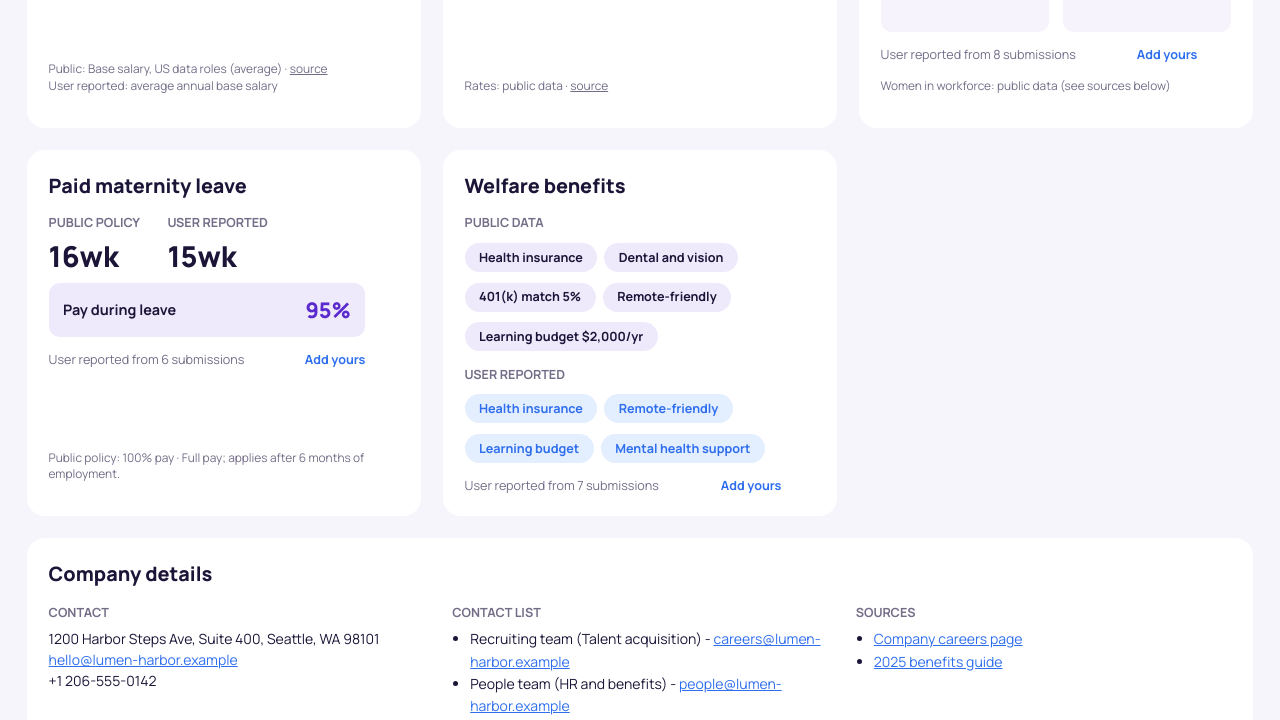
Scenario: CompanyProfilePage › adds a report and updates the box
The width and height of the screenshot is (1280, 720).
(page scrolled)
Click the button with aria-label "Add yours to paid maternity leave".
click(335, 360)  # box 305,351 -> 365,369
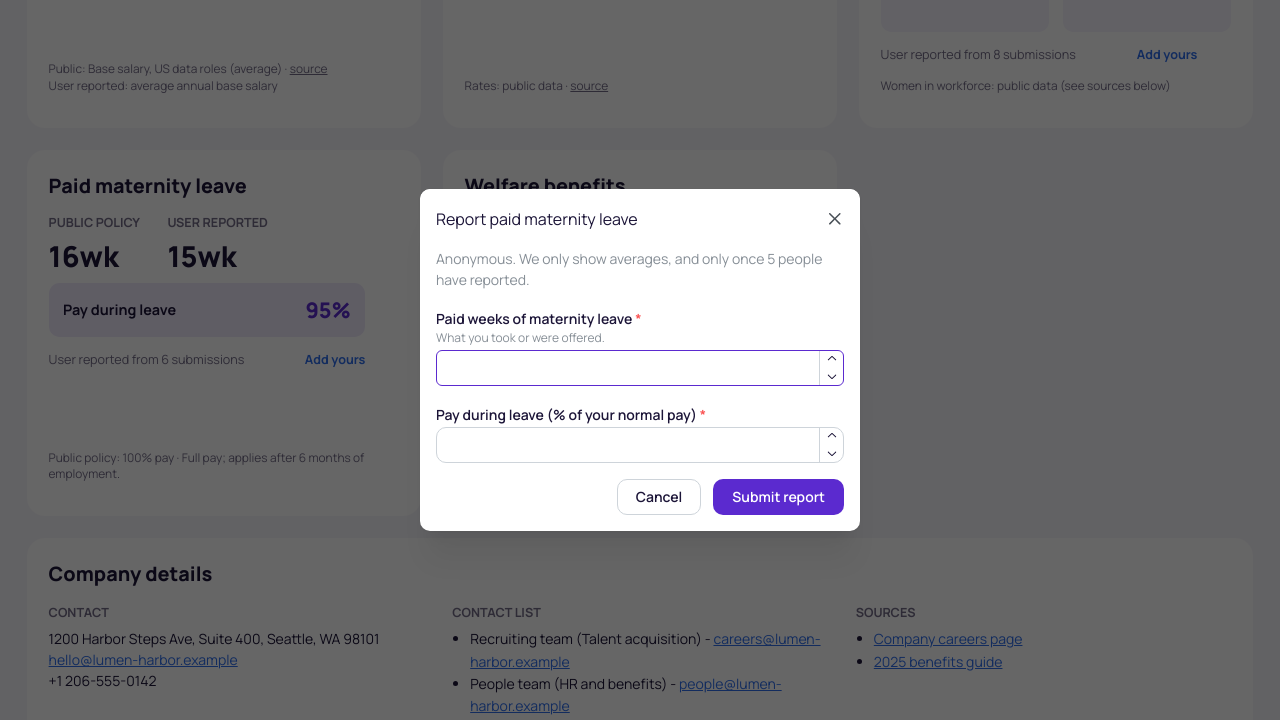
Type "29" into the field labelled "Paid weeks of maternity leave *".
click(640, 368); type("29")  # box 436,350 -> 844,386
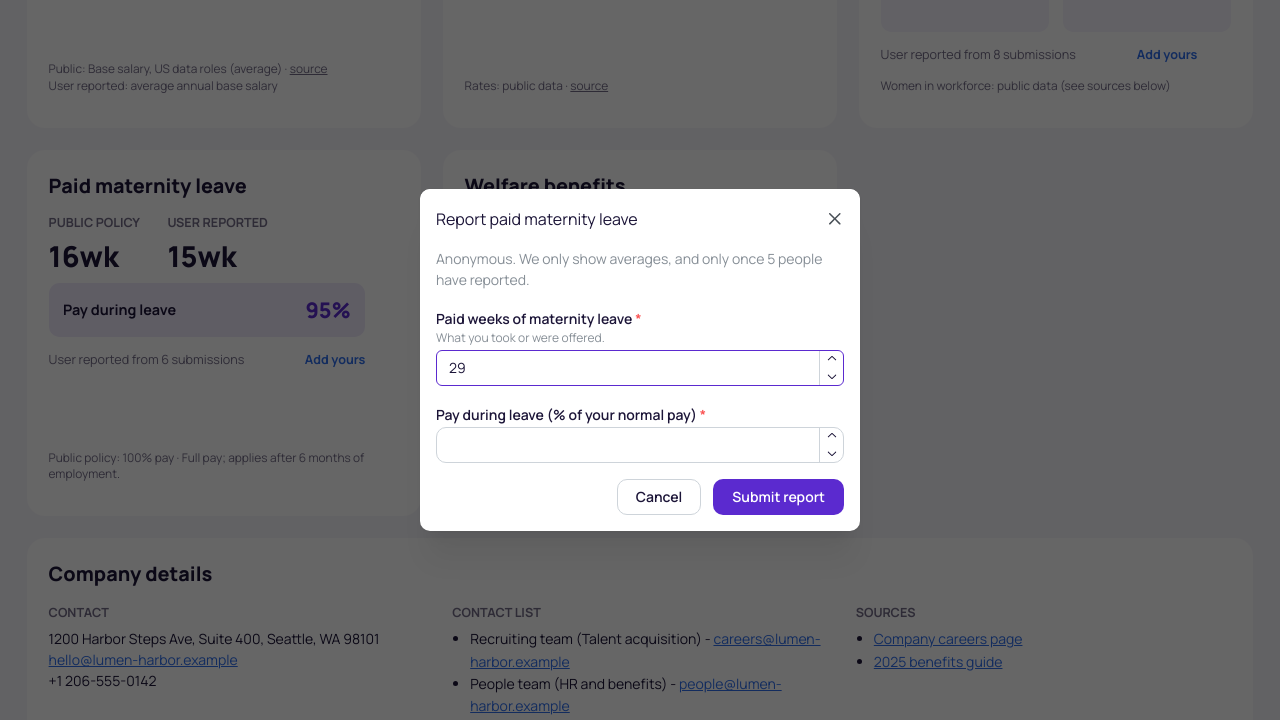
Type "60" into the field labelled "Pay during leave (% of your normal pay) *".
click(640, 445); type("60")  # box 436,427 -> 844,463
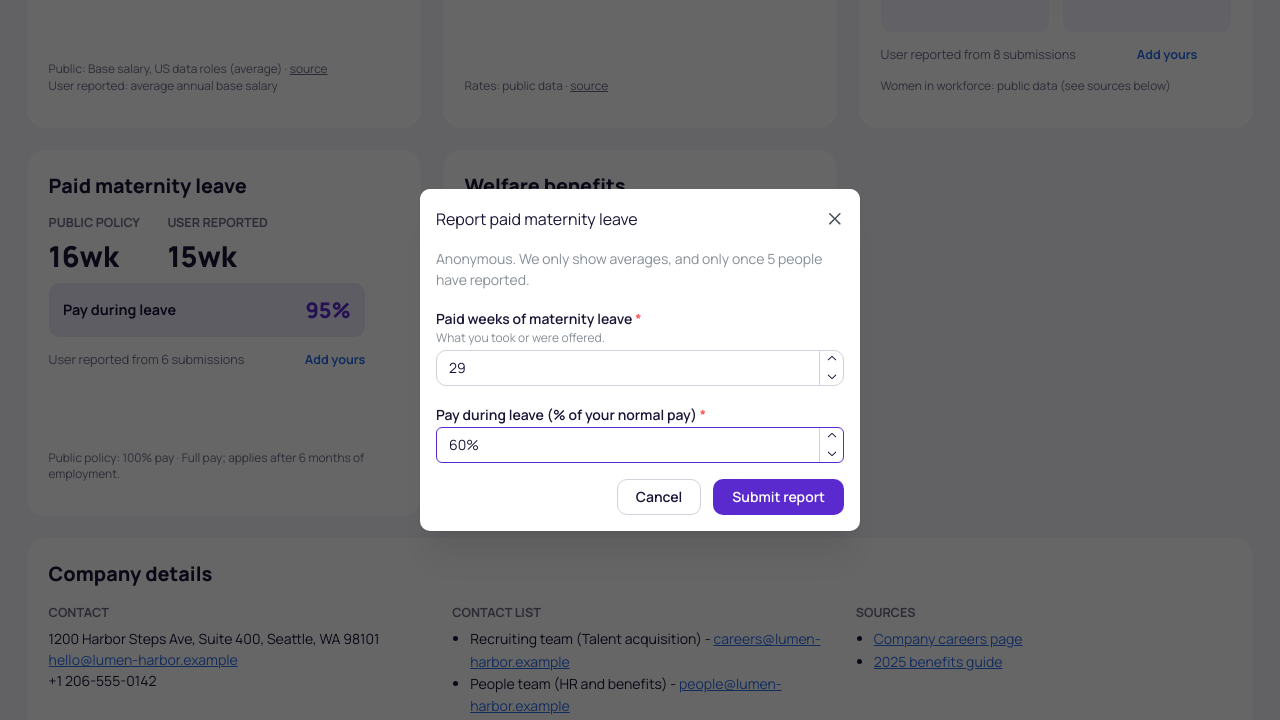
Click the button "Submit report".
click(779, 497)  # box 713,479 -> 844,515
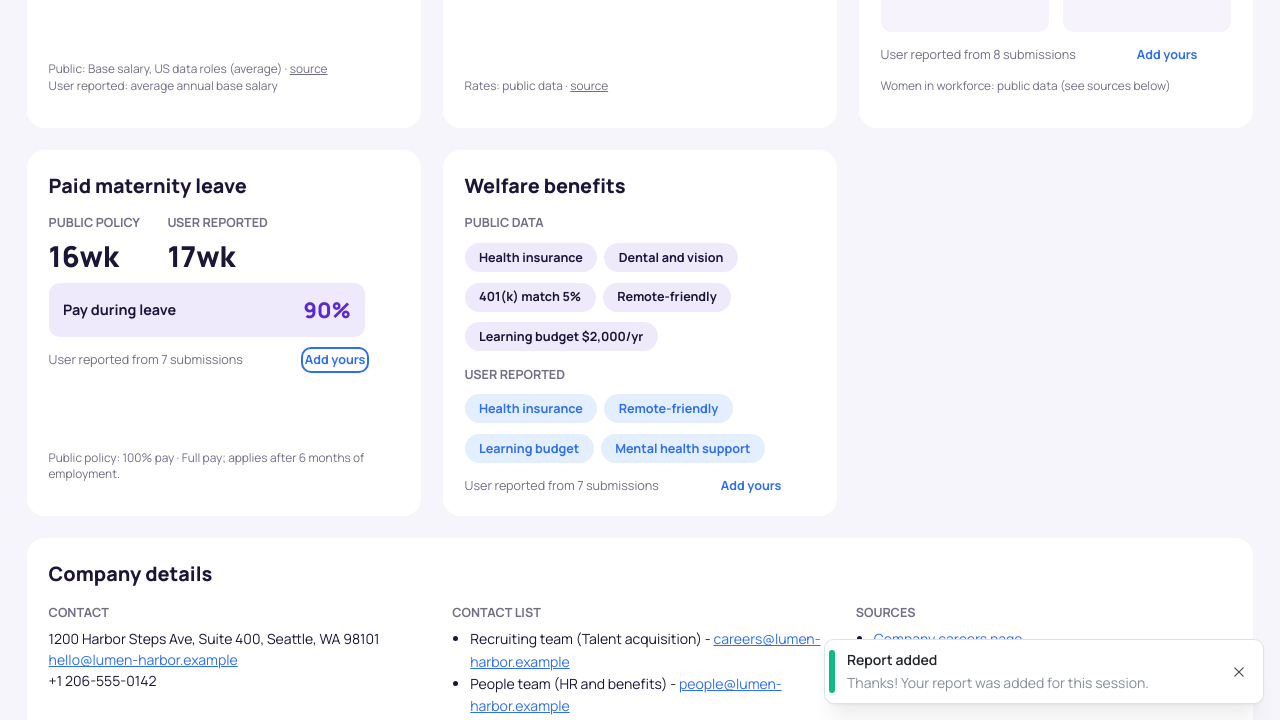
Expected: the text "User reported from 7 submissions" below "90%" is shown, 49,351 -> 243,368
Expected: the text "17wk" is shown, 167,236 -> 236,276
Expected: the text "90%" is shown, 304,295 -> 351,325
